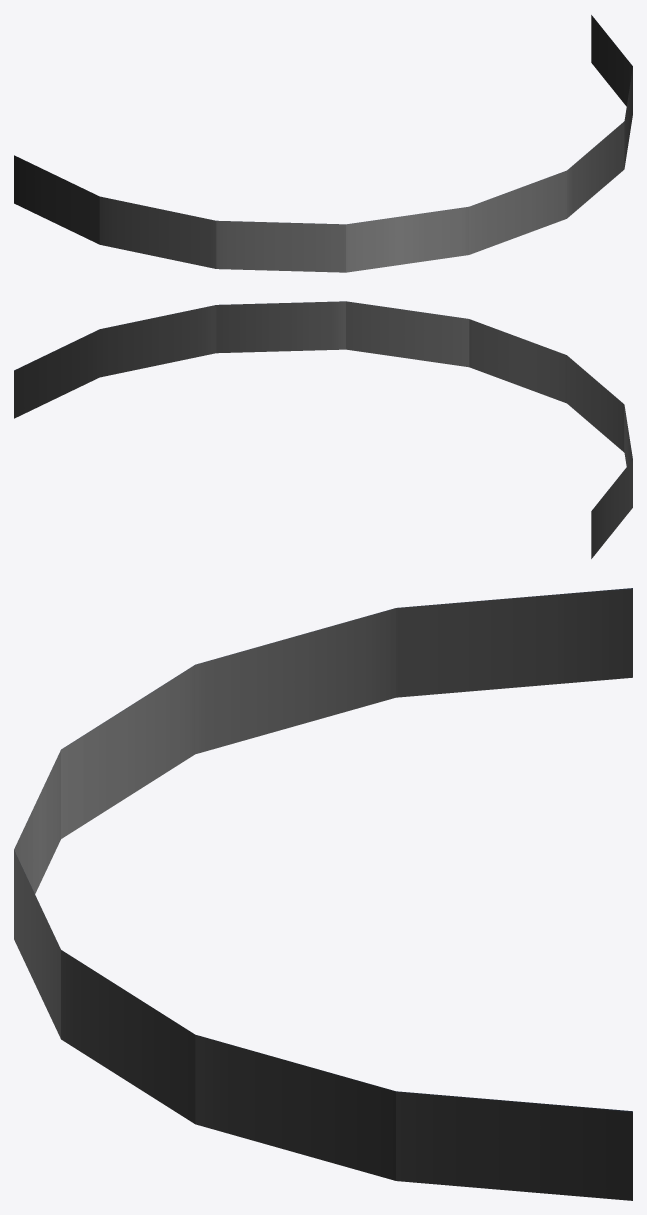
Rendered from top.gltf.
The picture shows the model from 3 angles, top to bottom: view 1: azimuth 30°, elevation 25°; view 2: azimuth 150°, elevation 25°; view 3: azimuth 270°, elevation 25°; orthographic projection. The views are drawn at different scales.
Visible parts, largest first — view 1: top; view 2: top; view 3: top.
Boxes of the visible parts, box(x1,y1,x2,y2) form: top: box(14, 15, 632, 272); top: box(14, 301, 632, 558); top: box(14, 588, 632, 1200).
Size of the model in its own units: 1 by 0.08 by 0.5.
Materials: 1 (1 with a texture image).
